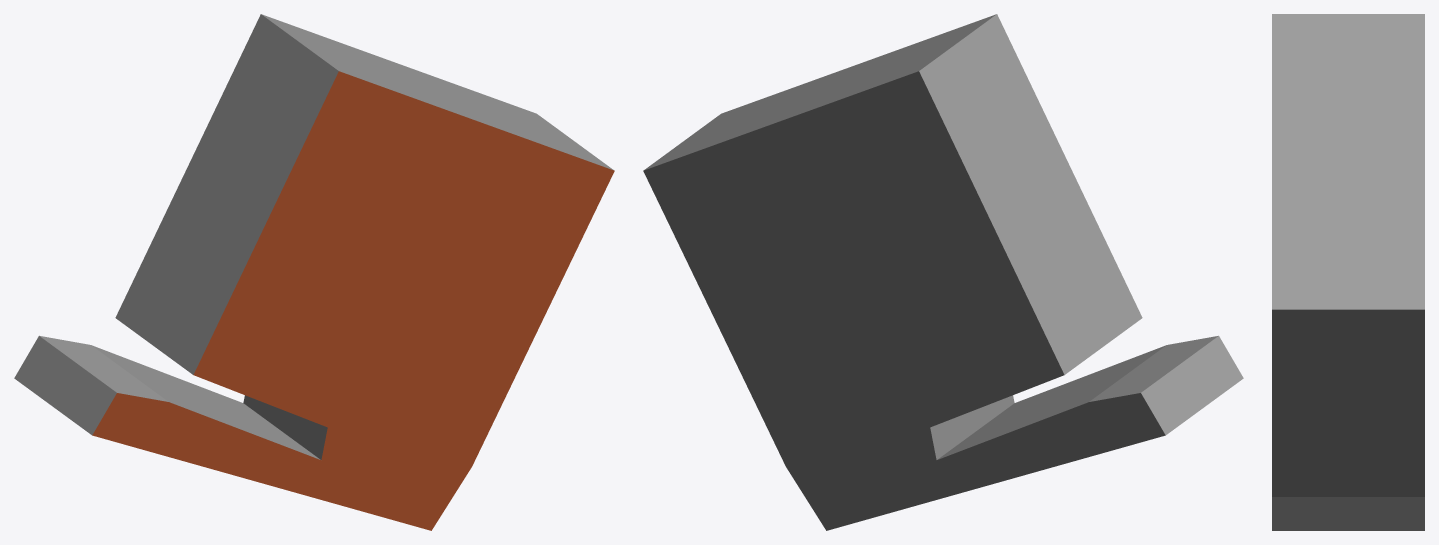
The model's file is construction_5473_assumed_A_Casa_h6m.obj.
3 renders of one model, left to right at view 1: azimuth 30°, elevation 25°; view 2: azimuth 150°, elevation 25°; view 3: azimuth 270°, elevation 25°, orthographic. The views are drawn at different scales.
Parts seen in each view (by area): view 1: construction_5473_assumed_A_Casa; view 2: construction_5473_assumed_A_Casa; view 3: construction_5473_assumed_A_Casa.
Boxes of the visible parts, box(x1,y1,x2,y2) form: construction_5473_assumed_A_Casa: box(14, 14, 614, 530); construction_5473_assumed_A_Casa: box(643, 14, 1243, 530); construction_5473_assumed_A_Casa: box(1272, 14, 1424, 530).
Size of the model in its own units: 23.19 by 20.46 by 6.
